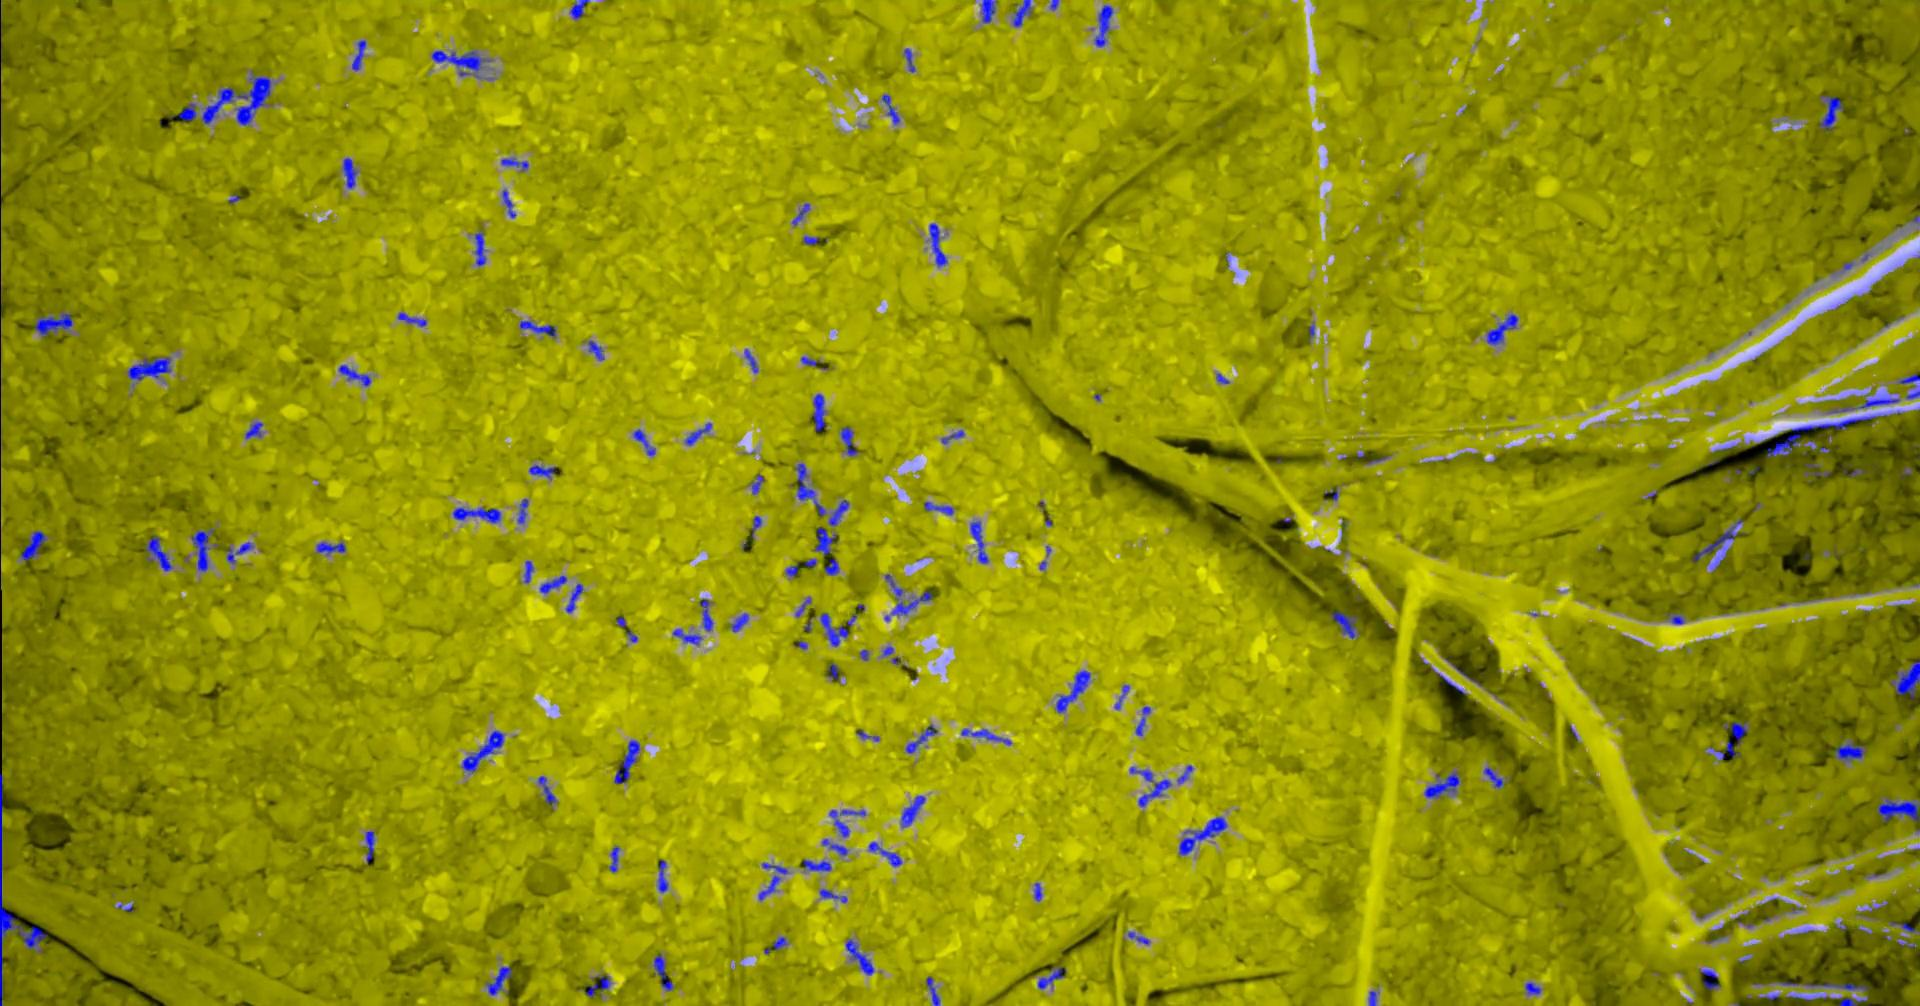ant: (1766, 414, 1887, 456), (1691, 518, 1745, 561), (1178, 815, 1227, 855), (461, 730, 503, 772), (430, 50, 490, 76), (794, 464, 824, 514), (1055, 669, 1090, 713), (820, 611, 856, 647), (1714, 721, 1747, 760), (1832, 394, 1898, 412), (1890, 661, 1919, 699), (758, 862, 787, 901), (613, 741, 639, 782), (1486, 312, 1517, 345), (127, 356, 170, 380), (1876, 798, 1919, 822), (844, 937, 872, 974), (891, 589, 931, 615), (829, 809, 865, 837), (190, 528, 213, 572), (145, 535, 171, 570), (1138, 779, 1171, 807), (960, 728, 1011, 746), (1423, 771, 1459, 796), (34, 312, 71, 337), (905, 724, 937, 752), (869, 841, 902, 866), (1818, 95, 1843, 130), (19, 530, 46, 560), (969, 521, 988, 563), (1330, 611, 1359, 638), (1095, 4, 1112, 46), (930, 224, 947, 265), (452, 507, 500, 522), (900, 795, 924, 826), (653, 954, 673, 989), (485, 967, 510, 995), (338, 365, 370, 386), (579, 974, 610, 996), (814, 527, 837, 555), (684, 422, 711, 445), (1037, 967, 1065, 988), (1835, 741, 1864, 761), (519, 320, 555, 337), (632, 428, 654, 455), (1803, 982, 1867, 991), (537, 775, 556, 804), (226, 542, 253, 563), (811, 392, 825, 431), (881, 94, 899, 123), (828, 499, 848, 525), (538, 575, 566, 593), (1012, 0, 1031, 25), (841, 426, 857, 455), (565, 583, 582, 612), (672, 627, 701, 644), (884, 574, 902, 600), (1135, 706, 1150, 735), (924, 976, 940, 1005), (698, 598, 712, 630), (1483, 766, 1503, 788), (350, 39, 364, 70), (342, 158, 356, 188), (822, 838, 847, 855), (923, 500, 952, 514), (502, 189, 516, 217), (397, 312, 425, 326), (819, 888, 847, 902), (1114, 683, 1129, 709), (1700, 969, 1719, 989), (474, 232, 485, 265), (316, 541, 345, 554), (569, 0, 589, 18), (791, 203, 809, 224), (500, 158, 528, 170), (1129, 766, 1152, 781), (528, 465, 555, 478), (729, 614, 748, 631), (657, 859, 667, 892), (1890, 921, 1919, 932), (980, 0, 996, 22), (1804, 464, 1830, 476), (364, 831, 375, 862), (803, 859, 830, 870), (883, 647, 900, 664), (587, 340, 603, 359), (941, 429, 963, 443), (178, 103, 196, 119), (245, 420, 262, 438), (744, 349, 757, 372), (517, 498, 528, 523), (1177, 763, 1192, 782), (903, 48, 914, 72), (1128, 931, 1149, 944), (1843, 465, 1865, 476), (750, 474, 763, 494), (750, 514, 761, 539), (610, 846, 618, 873), (824, 558, 838, 574), (1837, 997, 1867, 1005), (1524, 982, 1540, 995), (1898, 373, 1919, 384), (827, 662, 838, 680), (785, 561, 799, 575), (524, 560, 533, 582), (1666, 612, 1683, 624), (1032, 882, 1041, 901), (772, 936, 785, 949), (803, 235, 819, 244), (1368, 989, 1377, 1005)
